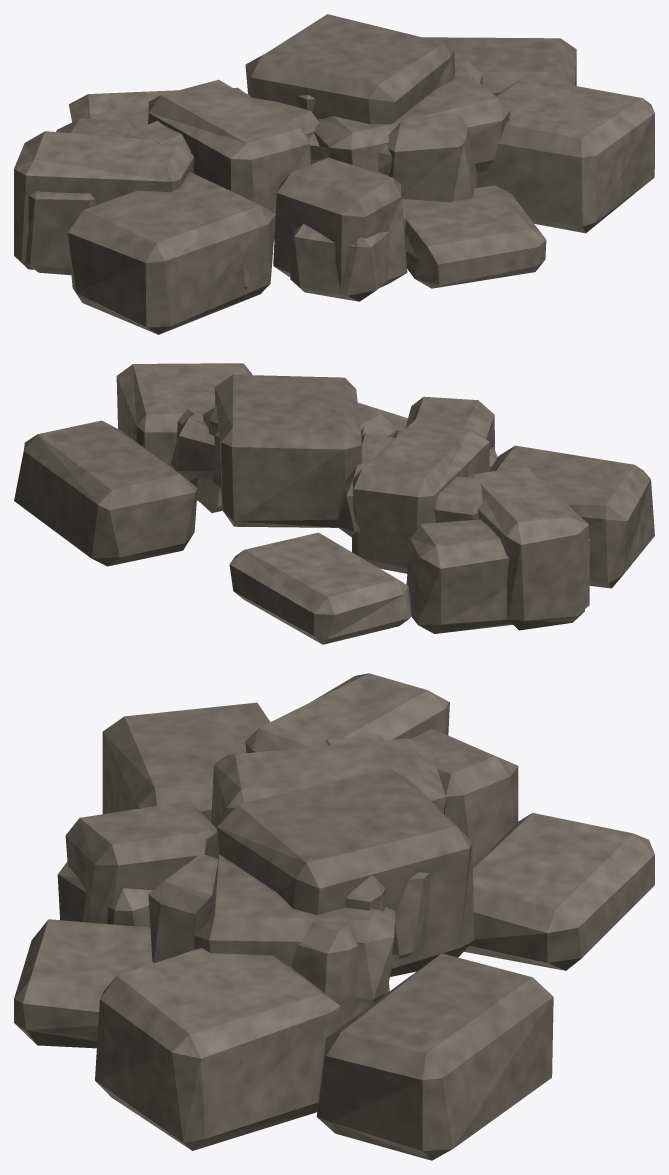
Rendered from arena-rubble.glb.
The picture shows the model from 3 angles, top to bottom: view 1: azimuth 30°, elevation 25°; view 2: azimuth 150°, elevation 25°; view 3: azimuth 270°, elevation 25°; orthographic projection. The views are drawn at different scales.
Visible parts, largest first — view 1: arena-rubble; view 2: arena-rubble; view 3: arena-rubble.
Part boxes in pixels (left/top/right/bottom): arena-rubble: left=14, top=14, right=654, bottom=334; arena-rubble: left=14, top=363, right=654, bottom=644; arena-rubble: left=14, top=673, right=654, bottom=1160.
Bounding box in the file's own units: 2 × 0.5 × 1.5.
Materials: 1 (1 with a texture image).
